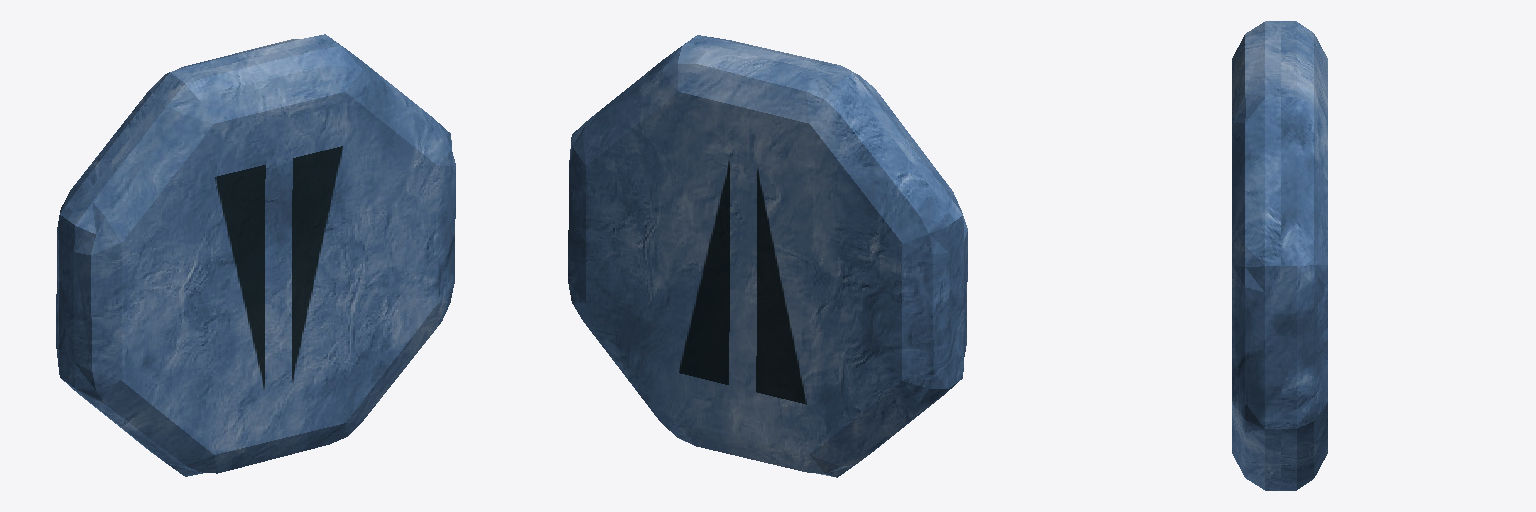
The picture shows the model from 3 angles: view 1: azimuth 30°, elevation 25°; view 2: azimuth 150°, elevation 25°; view 3: azimuth 270°, elevation 25°; orthographic projection.
Visible parts, largest first — view 1: Cube; view 2: Cube; view 3: Cube.
Boxes of the visible parts, x1,y1,x2,y2 form: Cube: [56, 34, 455, 476]; Cube: [568, 35, 967, 477]; Cube: [1232, 21, 1327, 490].
Size of the model in its own units: 0.9988 by 0.9988 by 0.2182.
1 materials, 1 textured.